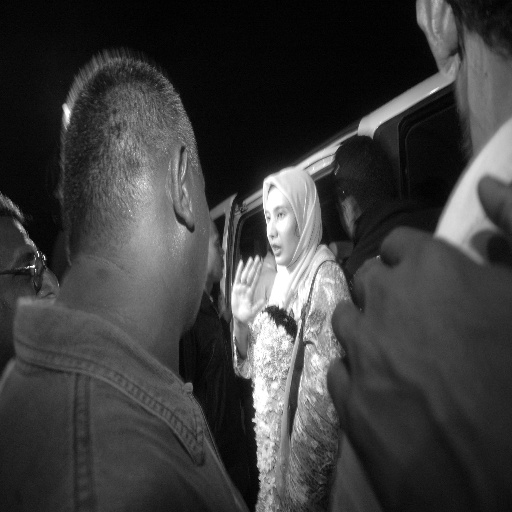hand: (324, 173, 511, 511), (235, 254, 268, 337)
